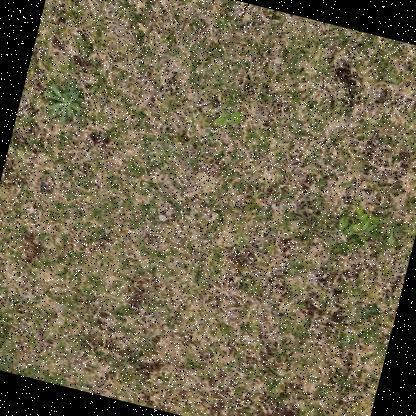Weeds: (332, 203, 415, 266), (38, 81, 88, 127), (212, 106, 246, 135)
